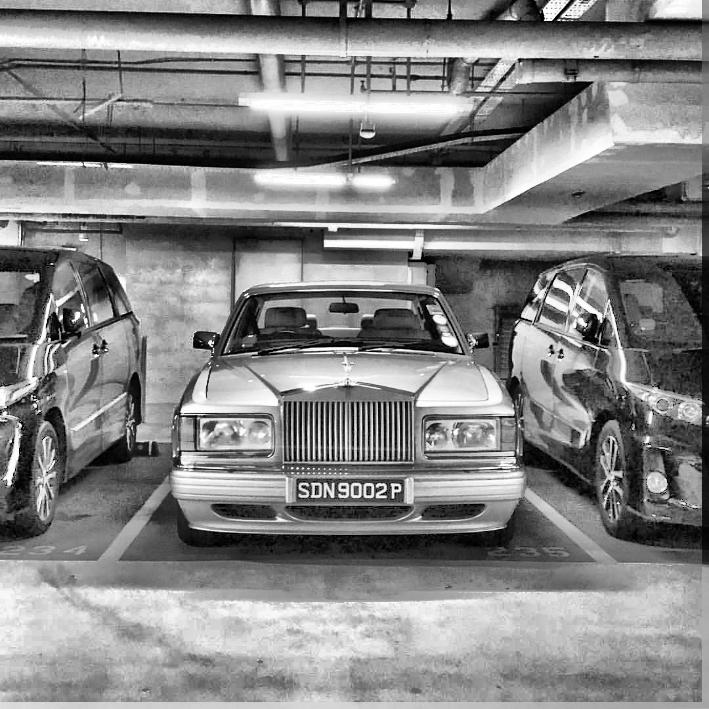License-Plates: (297, 480, 403, 500)
